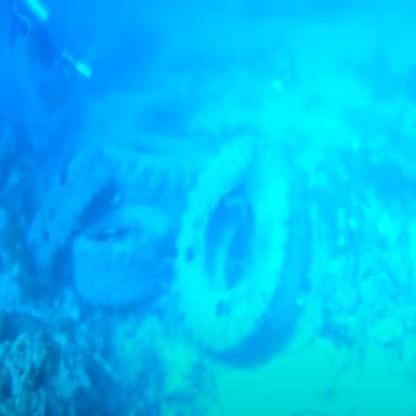tire: (174, 140, 312, 374), (45, 171, 169, 301), (31, 135, 109, 254)
